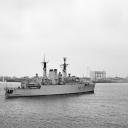Fragata: (5, 54, 97, 99)
